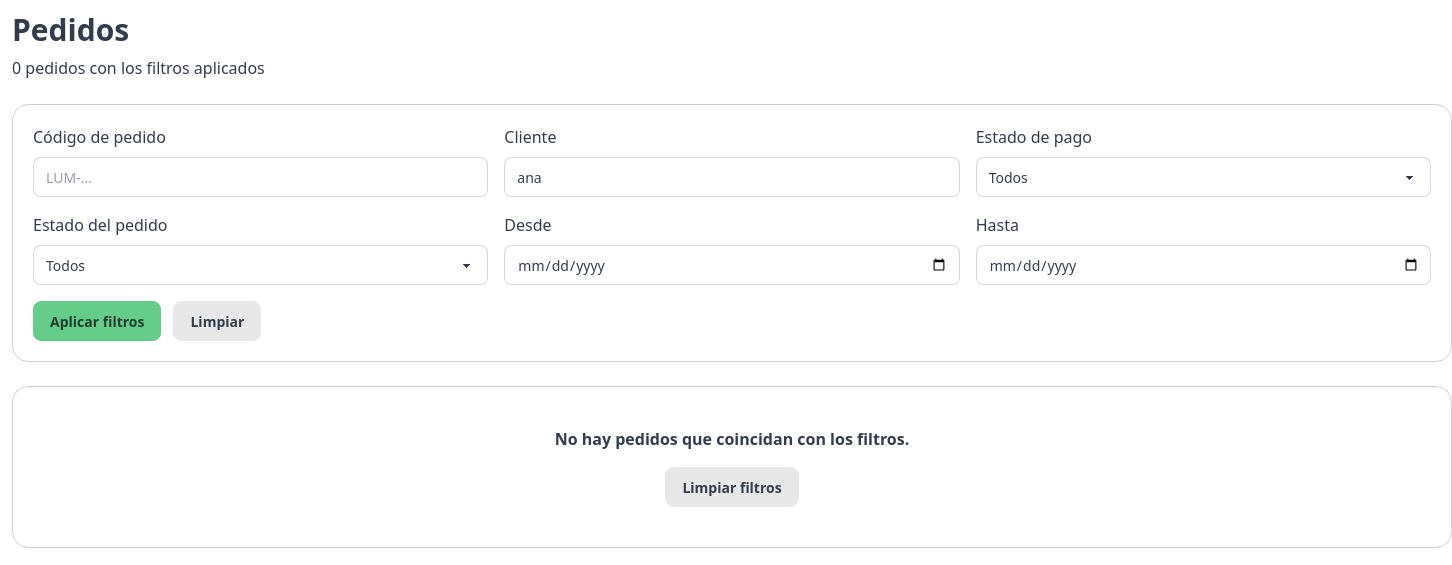
Test: OrdersAdminPageComponent (lista de pedidos) › "Limpiar" quita todos los filtros y vuelve a consultar sin ellos
The image size is (1452, 565).
Click the button "Limpiar".
click(217, 321)  # box x1=174 y1=301 x2=261 y2=341
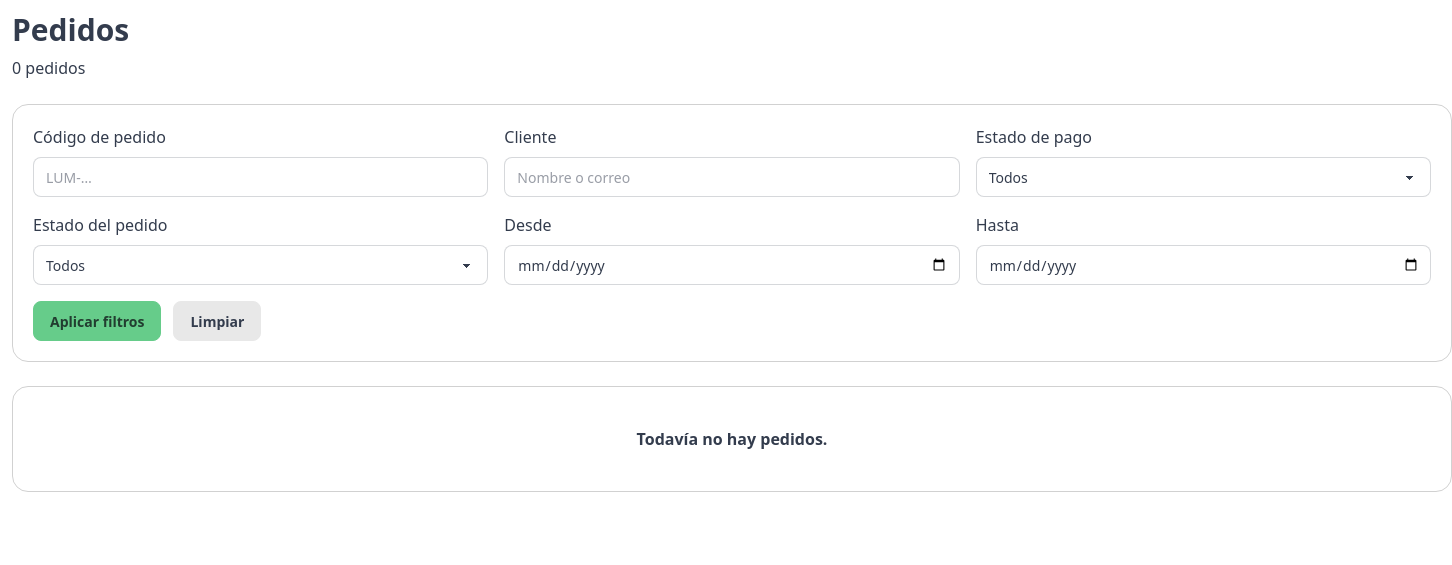
Now the search field with id "filter-customer" is empty, box x1=504 y1=157 x2=960 y2=197
